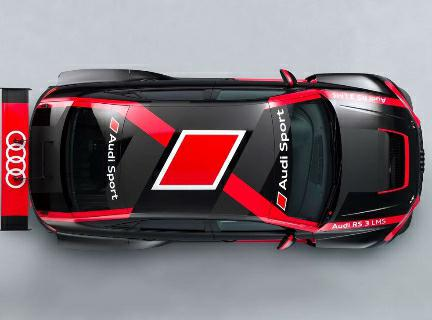奥迪-RS3: (4, 63, 430, 260)
